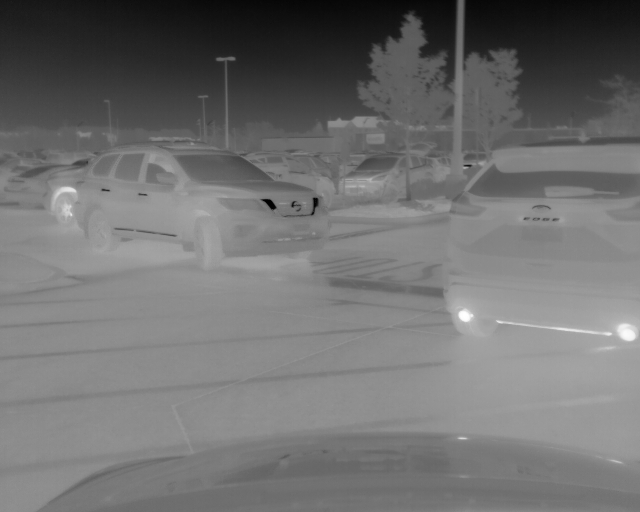car: (438, 137, 640, 347), (73, 141, 329, 273), (246, 148, 334, 211), (339, 151, 445, 203), (43, 163, 92, 225), (4, 162, 70, 208), (461, 148, 490, 170)
